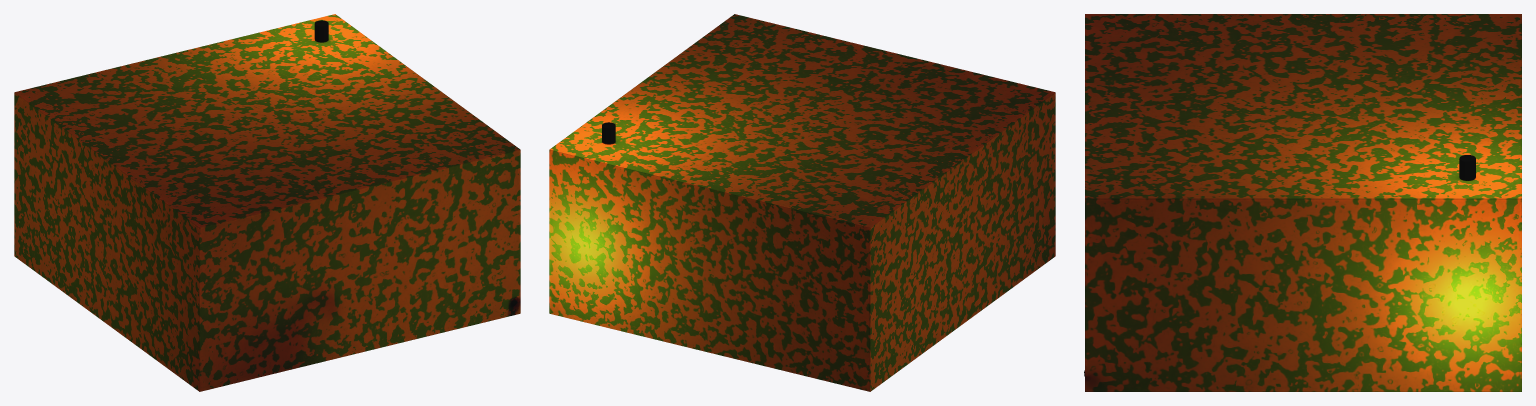
File: Light_bake_Chara.glb
3 renders of one model, left to right at view 1: azimuth 30°, elevation 25°; view 2: azimuth 150°, elevation 25°; view 3: azimuth 270°, elevation 25°, orthographic. The views are drawn at different scales.
Visible parts, largest first — view 1: chara; view 2: chara; view 3: chara.
Part boxes in pixels (<box>): chara: <box>14,14,520,391</box>; chara: <box>549,14,1055,391</box>; chara: <box>1084,14,1521,391</box>.
Size of the model in its own units: 10.39 by 5.65 by 10.41.
3 materials, 3 textured.
